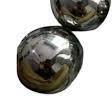ironball: (10, 24, 87, 97), (52, 0, 111, 34)
